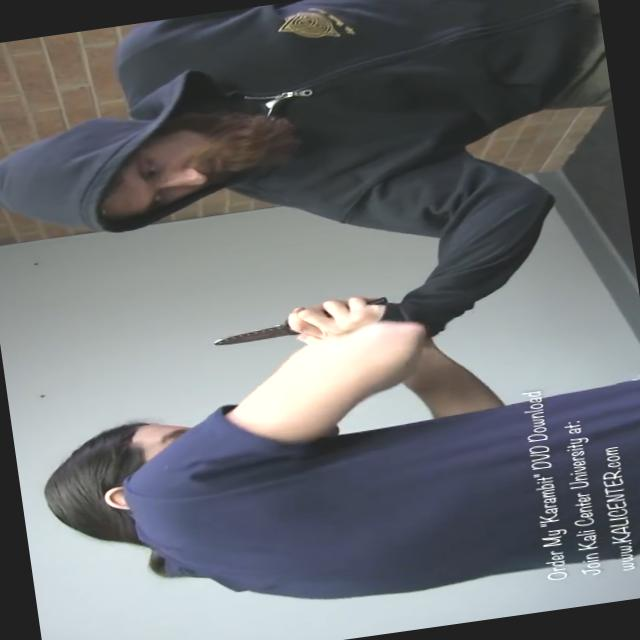knife: (200, 292, 376, 358)
